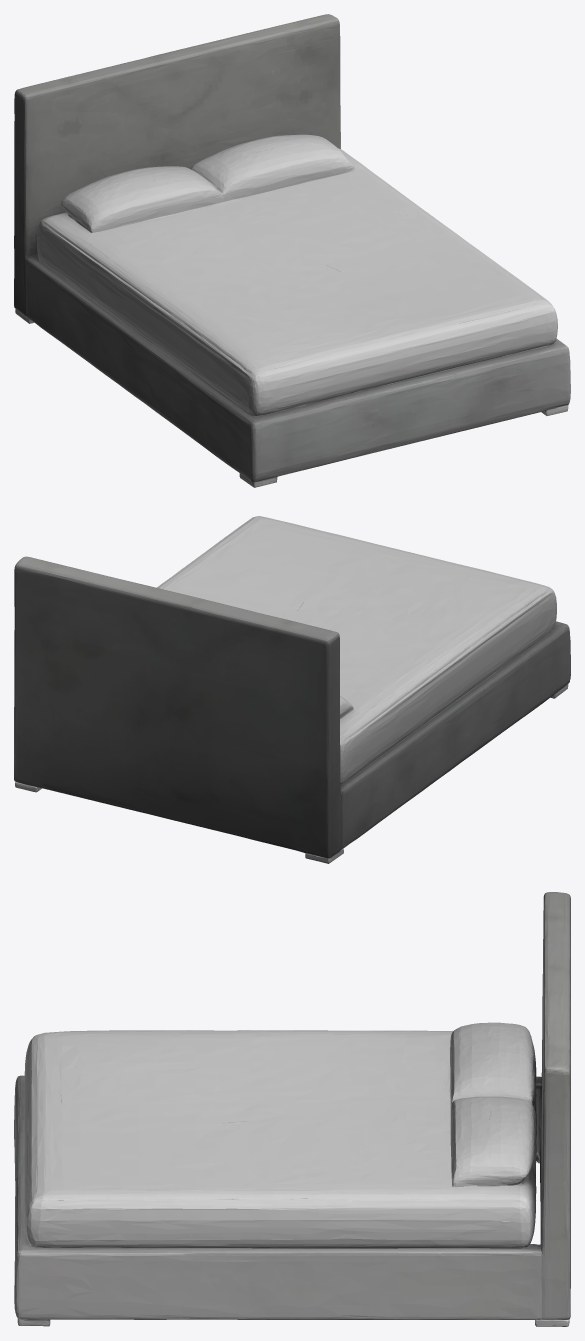
The picture shows the model from 3 angles, top to bottom: view 1: azimuth 30°, elevation 25°; view 2: azimuth 150°, elevation 25°; view 3: azimuth 270°, elevation 25°; orthographic projection. The views are drawn at different scales.
Parts seen in each view (by area): view 1: world; view 2: world; view 3: world.
Part boxes in pixels (x1=…): world: x1=14, y1=14, x2=570, y2=487; world: x1=14, y1=516, x2=570, y2=863; world: x1=14, y1=892, x2=570, y2=1326.
Bounding box in the file's own units: 0.7634 × 0.5146 × 1.
1 material, 1 textured.
